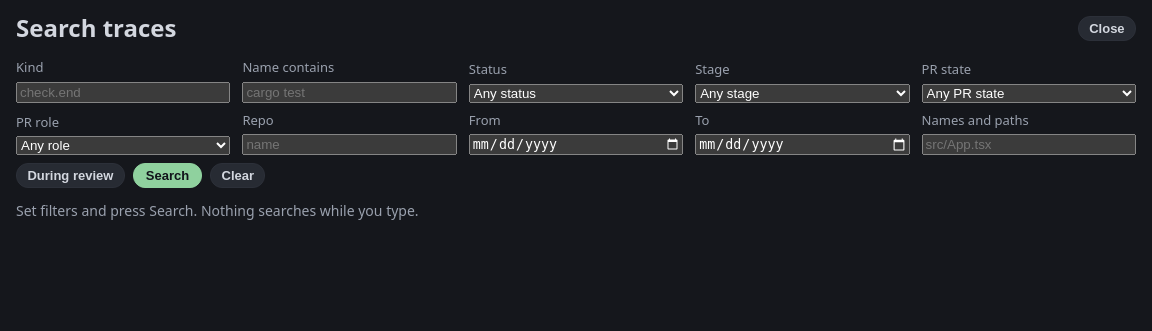
Test: TraceSearch › shows the active filters as pills
The width and height of the screenshot is (1152, 331).
Select "fixing" in the dropdown labelled "PR state". click: x=1029, y=93
box: left=922, top=84, right=1136, bottom=102
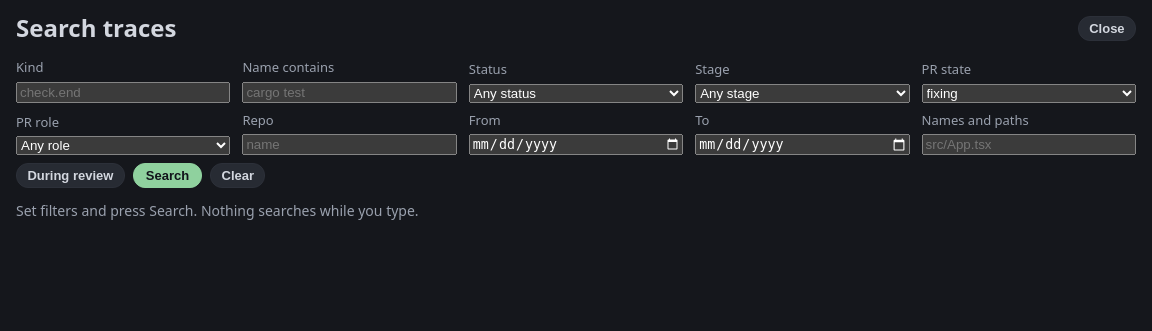
Select "pr-reviewer" in the dropdown labelled "PR role". click: x=123, y=146
box: left=16, top=136, right=230, bottom=155
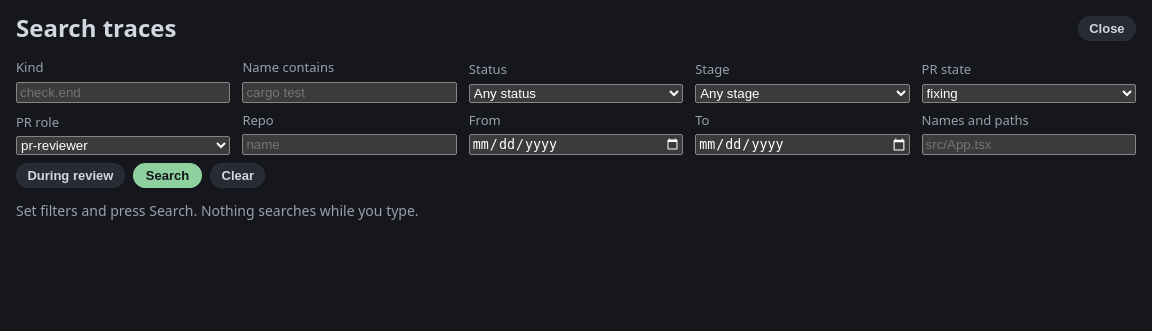
Submit the form named "Trace filters", box left=16, top=58, right=1136, bottom=188
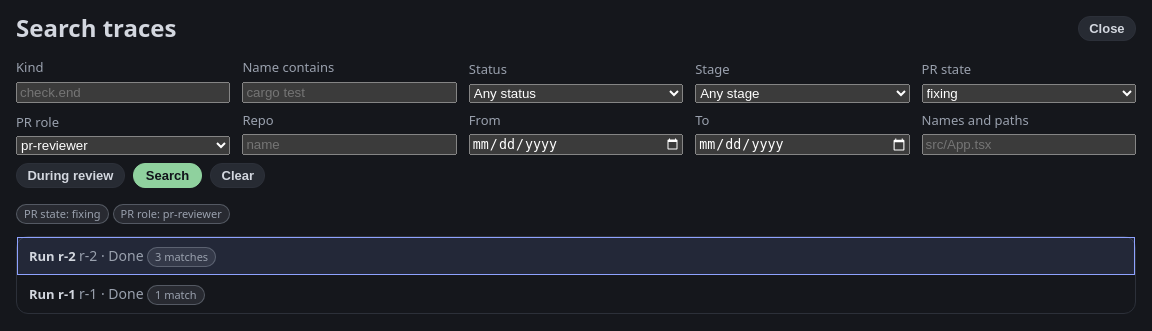
Now the list named "Active filters" shows "PR state: fixing", box left=24, top=206, right=101, bottom=221
Now the list named "Active filters" shows "PR role: pr-reviewer", box left=121, top=206, right=222, bottom=221
